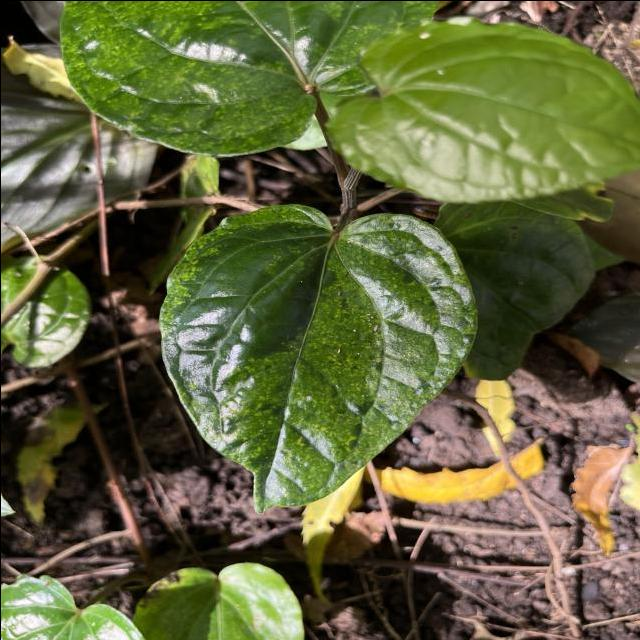Piper betle: (153, 200, 481, 520)
